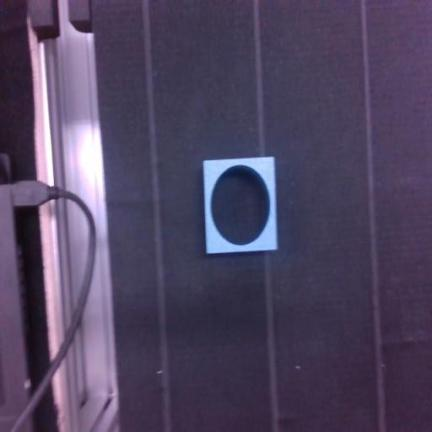hole: (204, 157, 277, 253)
